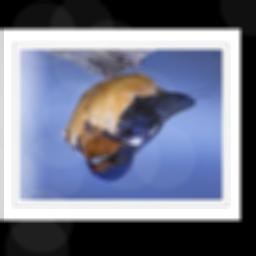Swallow: (59, 52, 216, 186)
